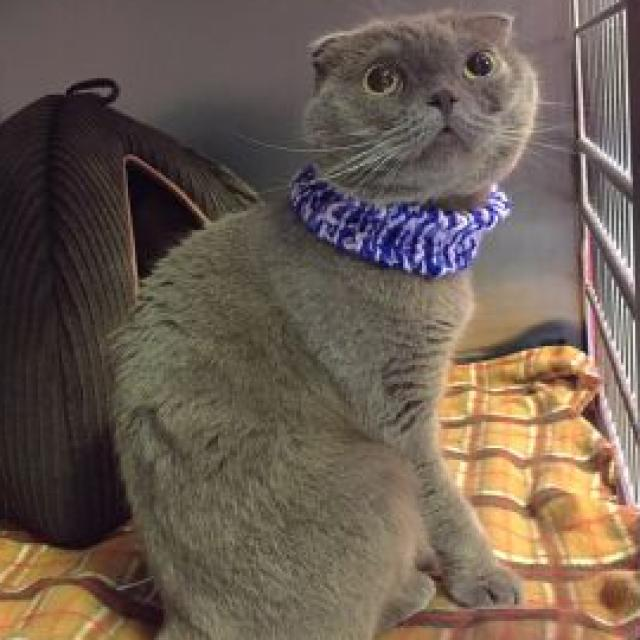Scottish Fold: (100, 2, 548, 640)
